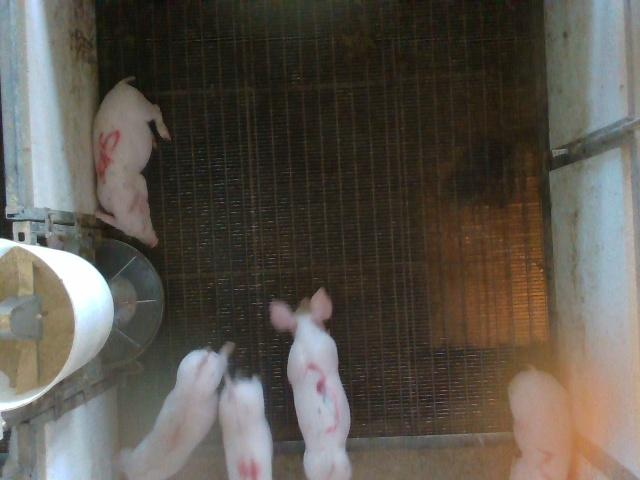pig-1: (119, 345, 231, 479)
pig-2: (509, 366, 572, 478)
pig-3: (270, 288, 351, 479)
pig-4: (219, 375, 272, 479)
pig-5: (92, 76, 171, 247)
